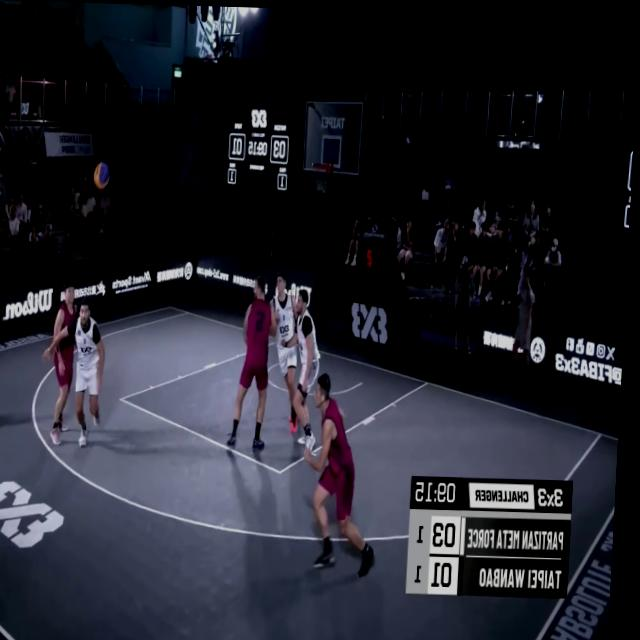ball: (93, 158, 114, 192)
hoop: (312, 155, 336, 196)
player: (306, 373, 384, 572), (38, 292, 110, 448), (231, 276, 280, 449), (41, 276, 82, 447), (271, 271, 312, 440), (290, 286, 328, 445)
